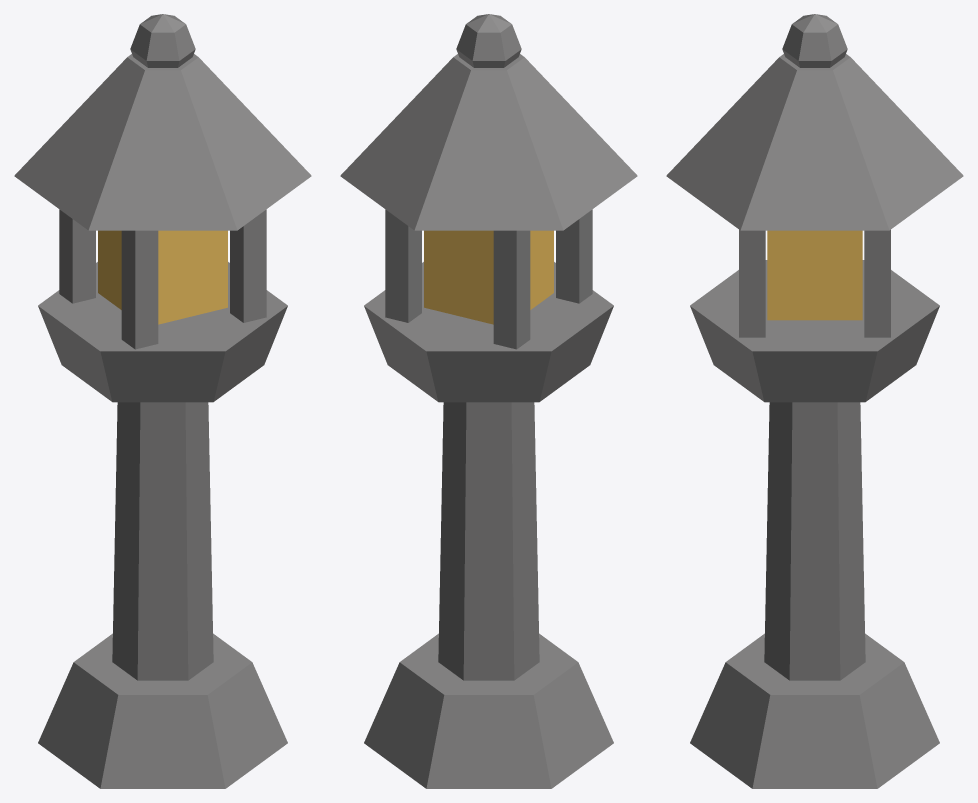
The model's file is lantern.glb.
3 renders of one model, left to right at view 1: azimuth 30°, elevation 25°; view 2: azimuth 150°, elevation 25°; view 3: azimuth 270°, elevation 25°, orthographic.
Parts seen in each view (by area): view 1: Lantern, Window; view 2: Lantern, Window; view 3: Lantern, Window.
Part boxes in pixels (box(x1,y1,x2,y2)): Lantern: box(14, 14, 311, 788); Window: box(98, 230, 227, 324); Lantern: box(340, 14, 637, 788); Window: box(424, 230, 553, 324); Lantern: box(666, 14, 963, 788); Window: box(767, 230, 862, 320).
Size of the model in its own units: 8.66 by 27 by 10.
